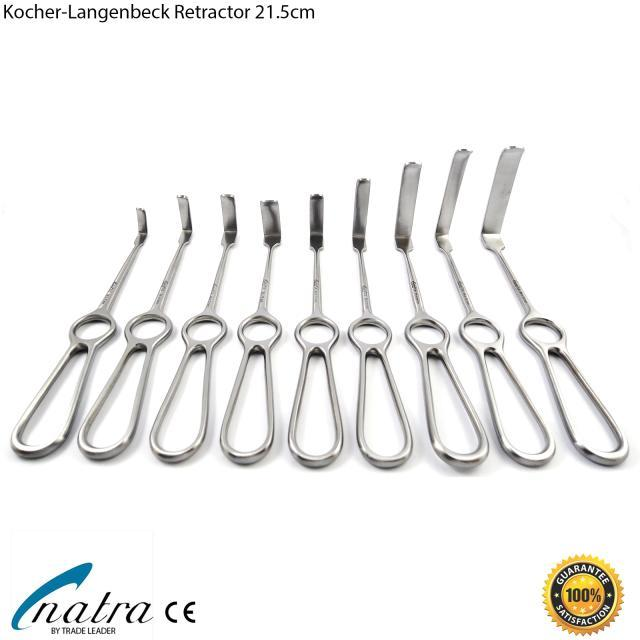Langenbach Retractor: (478, 141, 631, 478), (6, 204, 156, 462), (84, 186, 206, 464), (389, 150, 486, 478), (147, 179, 256, 469), (226, 179, 302, 477), (284, 179, 348, 472), (342, 176, 404, 468)
